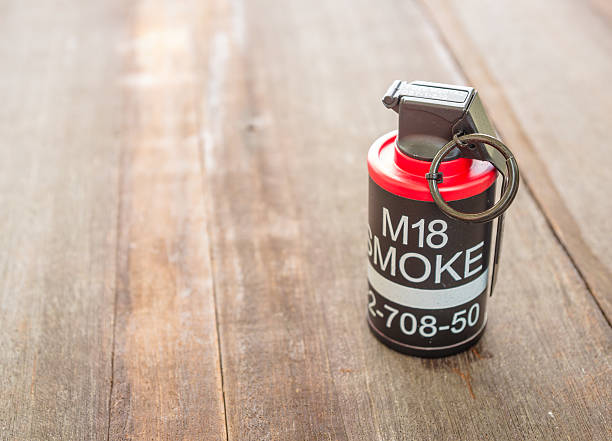e1: (365, 81, 522, 358)
